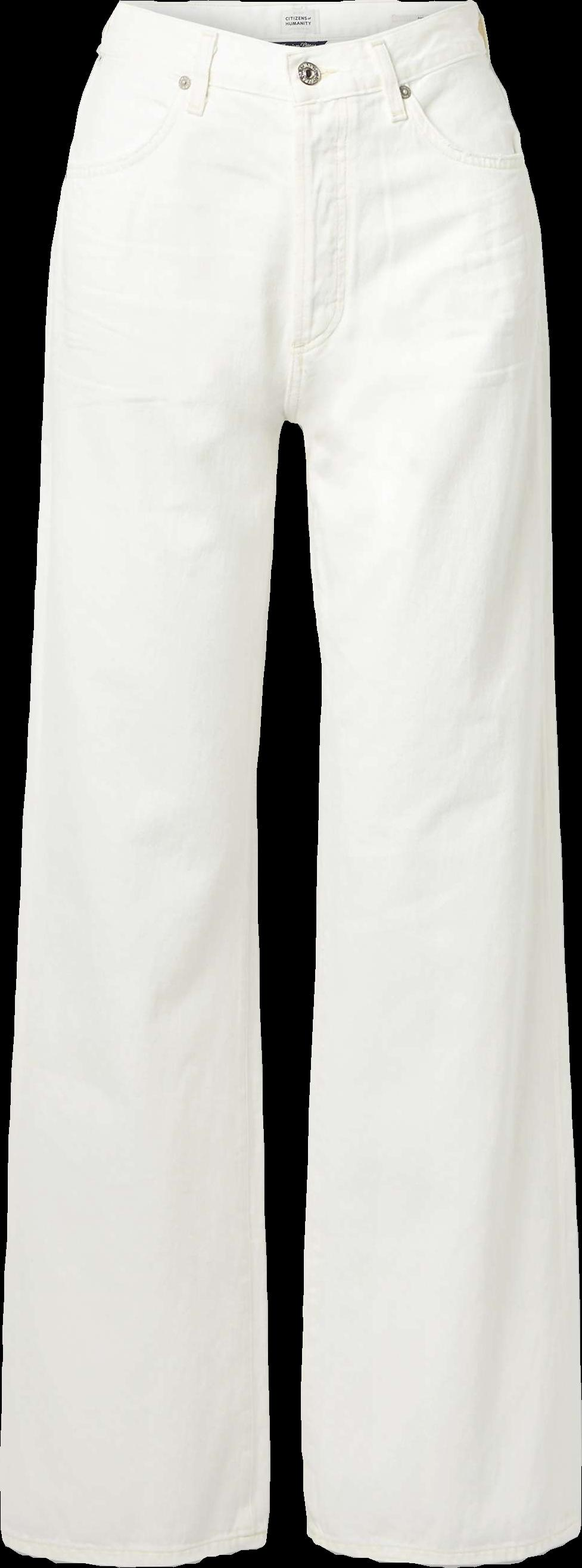Hemline: (305, 1517, 581, 1567), (0, 1525, 273, 1567)
Pantleg: (288, 0, 581, 1565), (0, 2, 292, 1564)
Waistline: (85, 45, 496, 112), (106, 0, 480, 55)
